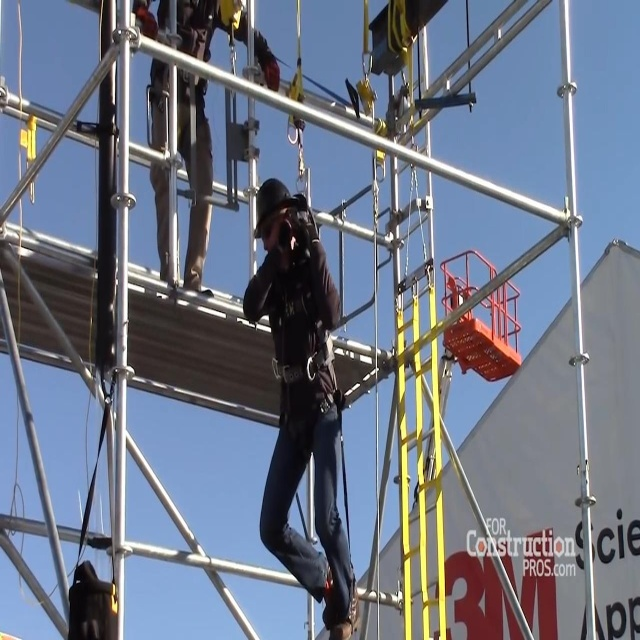Arnes_seguridad: (251, 190, 343, 458), (141, 0, 220, 154)
